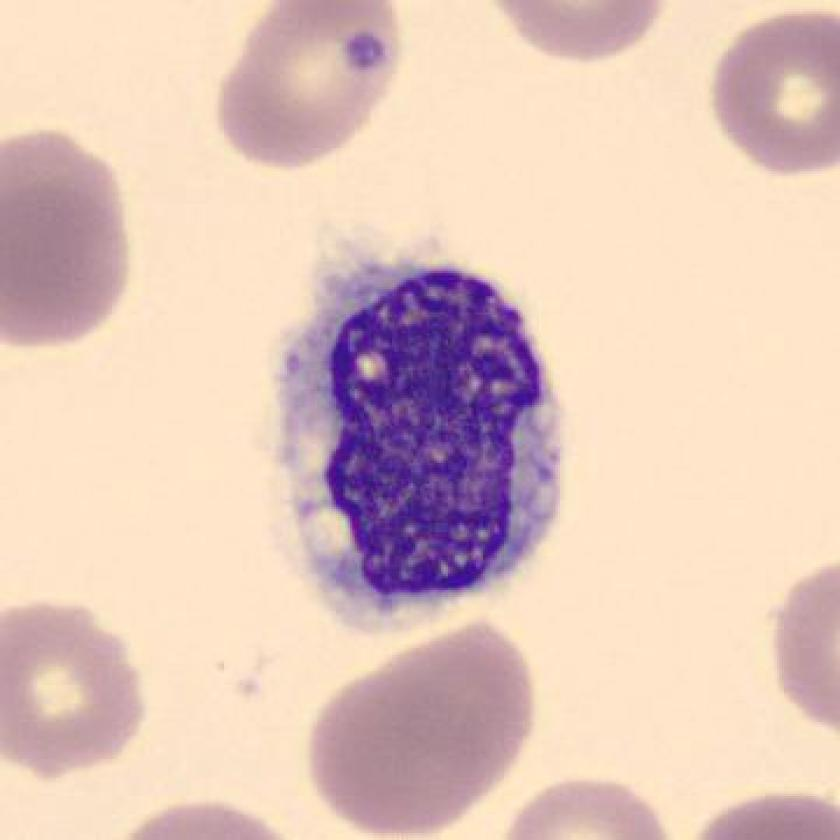monocyte: (253, 226, 594, 645)
